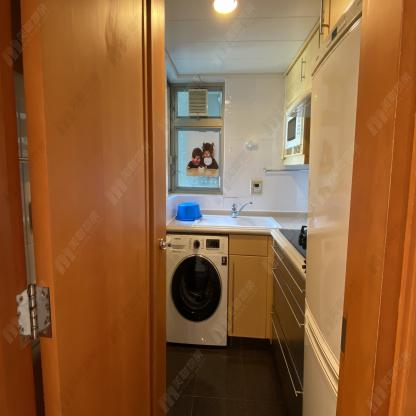Cupboard: (229, 236, 305, 409), (284, 33, 318, 109)
Exhaust Fan: (188, 89, 208, 114)
Faucet: (230, 198, 253, 218)
Fridge: (304, 0, 361, 415)
Oven: (287, 98, 305, 149)
Sink: (196, 215, 282, 227)
Stove: (277, 224, 307, 257)
